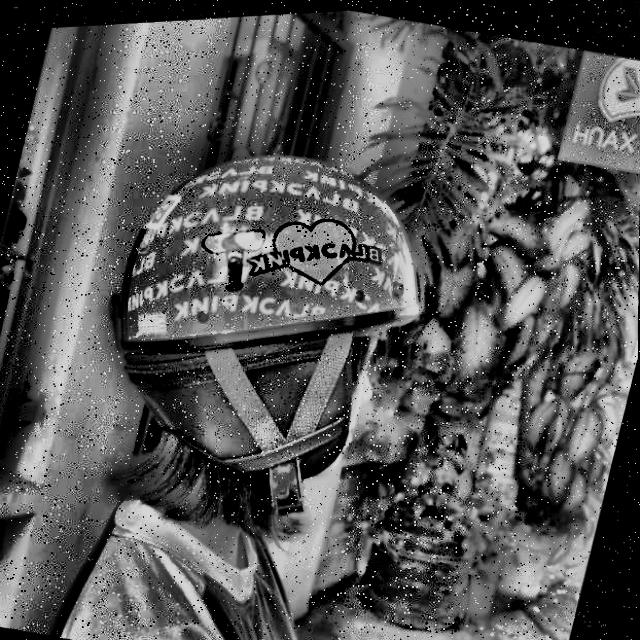Helmet: (60, 101, 461, 551)
